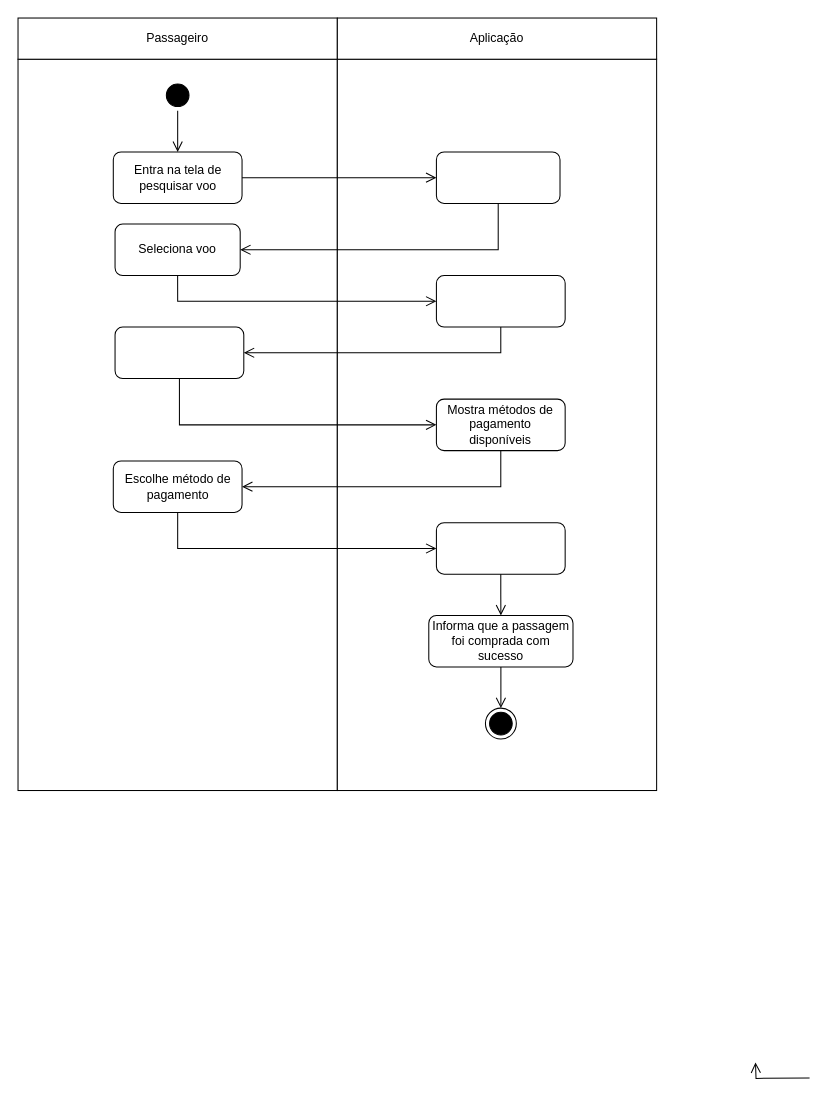
Some shapes in this 838 by 1107 pixel diagram are drawn without their labels. Each missing label, with the box of its shape:
Cria passagem: (435, 522, 565, 574)
Escolhe comprar passagem: (114, 326, 244, 379)
Mostra detalhes do voo: (435, 274, 565, 327)
Mostra voos: (435, 151, 560, 203)
